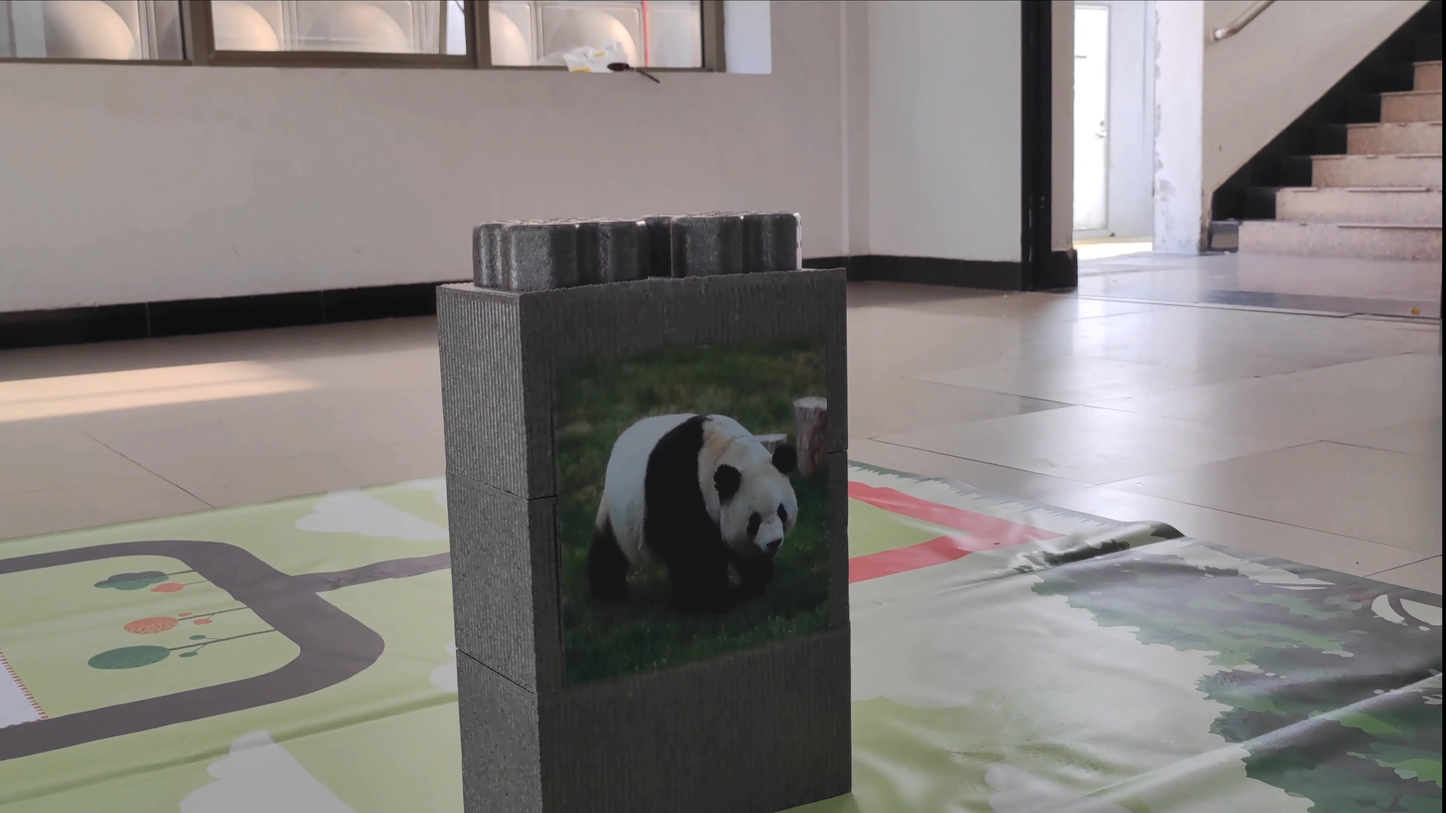panda: (567, 358, 814, 606)
